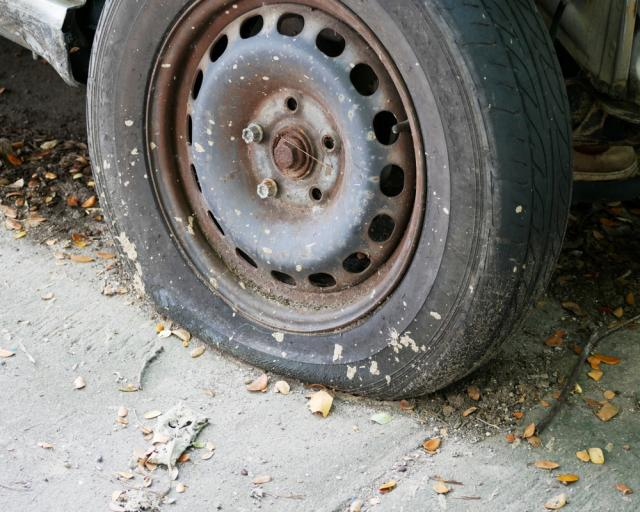tire flat: (87, 0, 573, 398)
